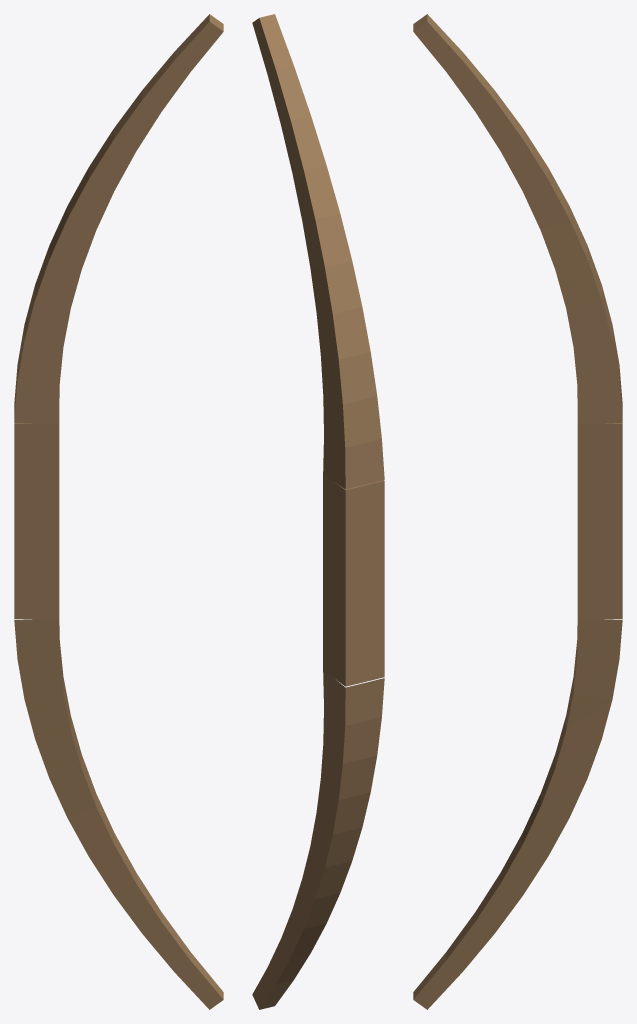
File: bow.glb
The picture shows the model from 3 angles, left to right: view 1: azimuth 90°, elevation 25°; view 2: azimuth 210°, elevation 25°; view 3: azimuth 270°, elevation 25°; orthographic projection.
Visible parts, largest first — view 1: Bow; view 2: Bow; view 3: Bow.
Boxes of the visible parts, <box> form: Bow: <box>14,14,223,1009</box>; Bow: <box>252,14,384,1009</box>; Bow: <box>413,14,622,1009</box>.
Bounding box in the file's own units: 0.05 × 1.21 × 0.2328.
